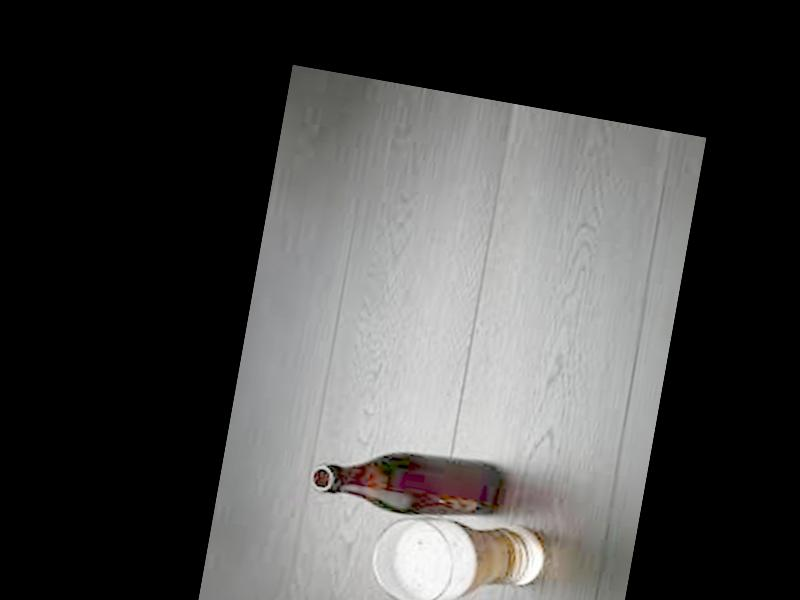Beer: (305, 430, 516, 533)
